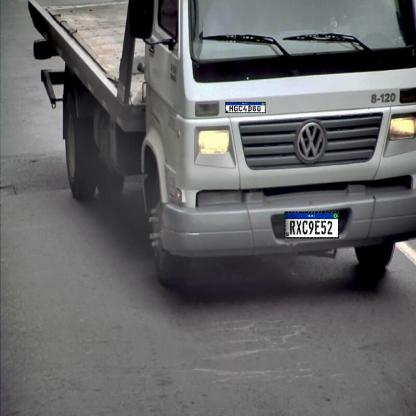PlacaM: (284, 211, 339, 238), (225, 102, 266, 113)
